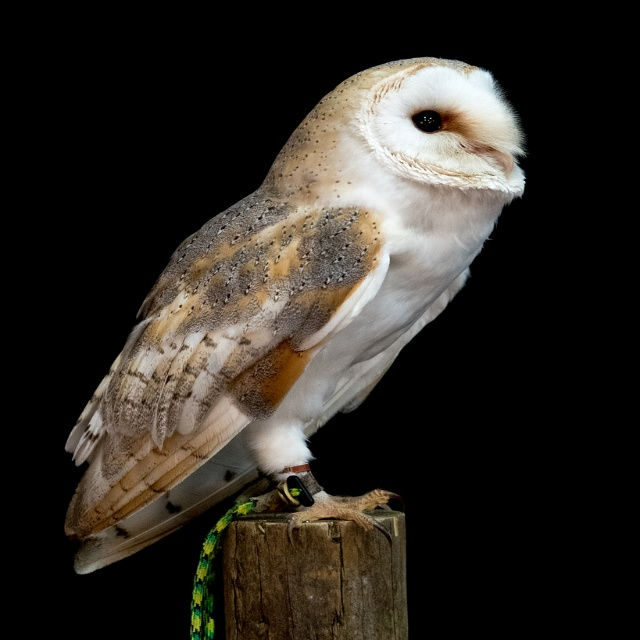Owl: (61, 55, 534, 574)
